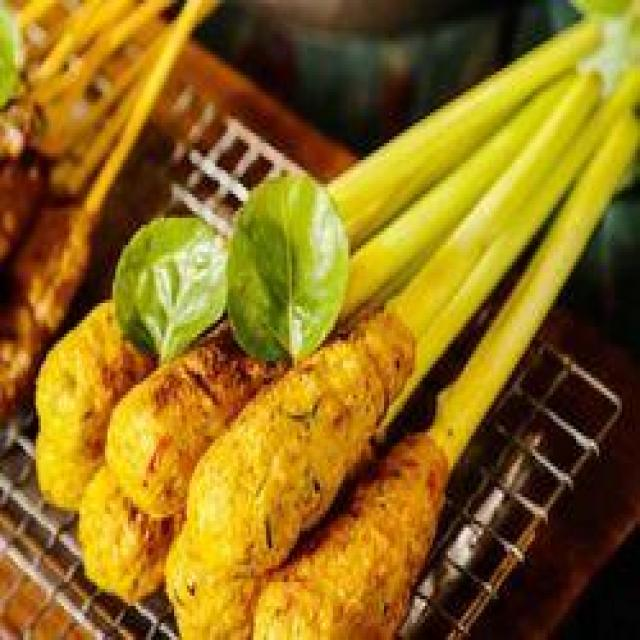Sate: (61, 131, 591, 607)
